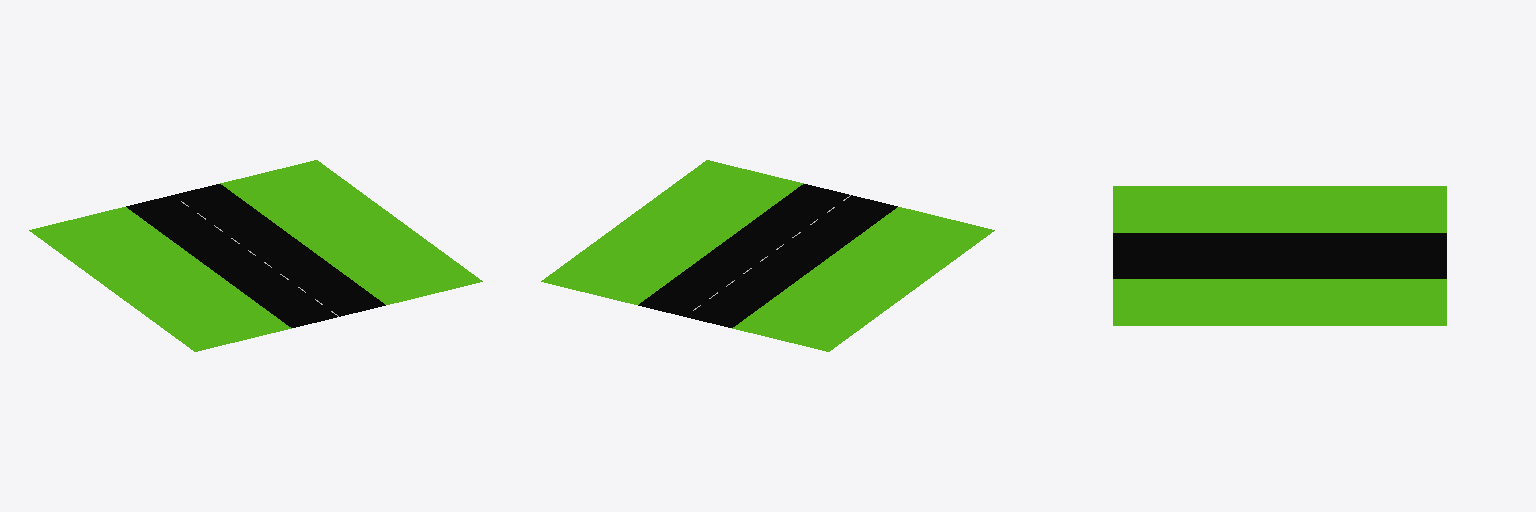
Rendered from tiePalaPerus.obj.
3 renders of one model, left to right at view 1: azimuth 30°, elevation 25°; view 2: azimuth 150°, elevation 25°; view 3: azimuth 270°, elevation 25°, orthographic.
Parts seen in each view (by area): view 1: Plane; view 2: Plane; view 3: Plane.
Boxes of the visible parts, x1,y1,x2,y2 form: Plane: [29, 160, 482, 351]; Plane: [541, 160, 994, 351]; Plane: [1113, 186, 1446, 325].
Bounding box in the file's own units: 100 × 0 × 100.